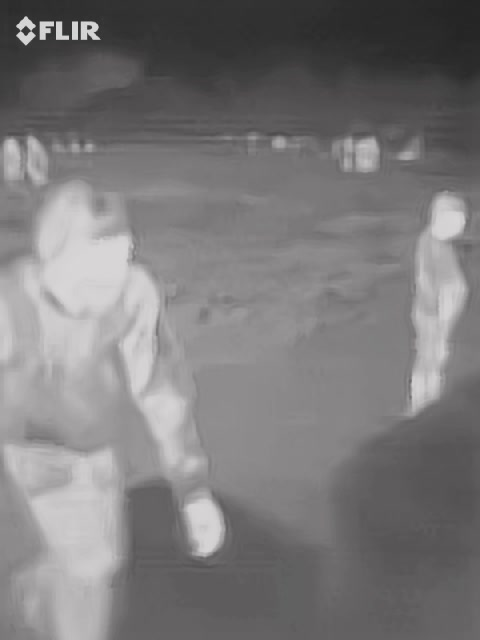head: (30, 176, 146, 322)
